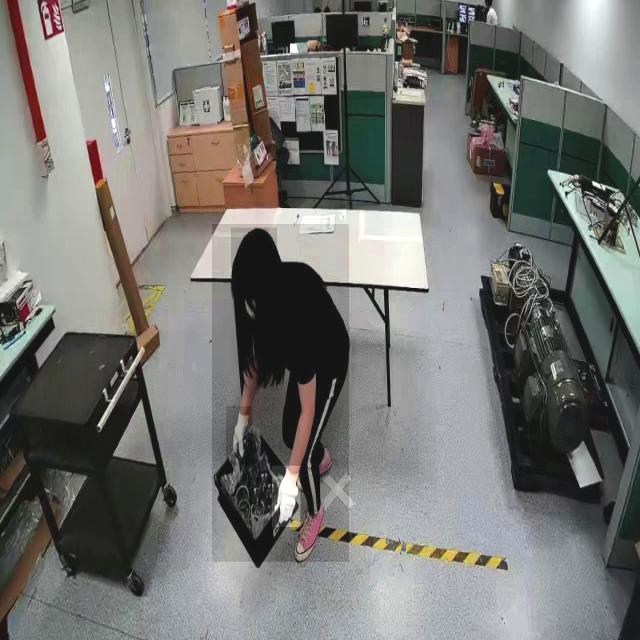hand_glove: (272, 466, 301, 528), (226, 406, 253, 466)
head_nohelmet: (231, 228, 277, 270)
person: (212, 224, 350, 563)
shoes: (290, 497, 330, 566)
